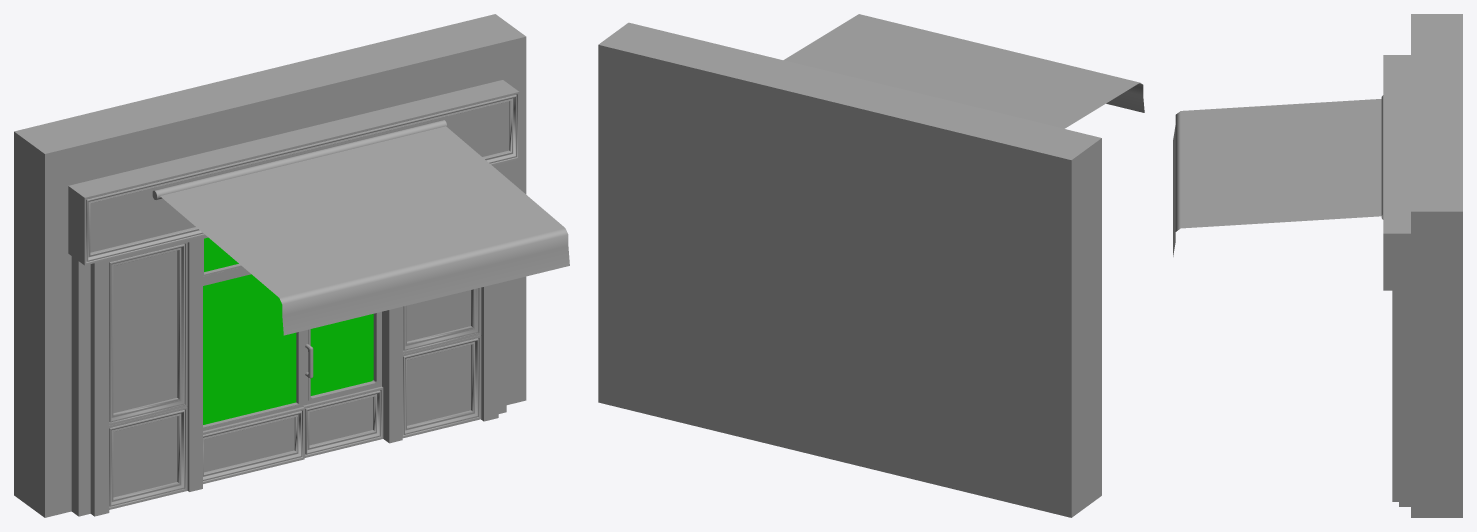
File: SM_Devanture_3.fbx
The picture shows the model from 3 angles, left to right: view 1: azimuth 30°, elevation 25°; view 2: azimuth 150°, elevation 25°; view 3: azimuth 270°, elevation 25°; orthographic projection. The views are drawn at different scales.
Parts seen in each view (by area): view 1: pCube45, pPlane2, pCube56, pCube53, polySurface15, polySurface19, pCube51, pCube54, pCube52, polySurface20, polySurface13, polySurface17 (+6 smaller); view 2: pCube45, pPlane2; view 3: pCube45, pPlane2, pCube56, polySurface20, polySurface19, pCylinder2.
Boxes of the visible parts, x1,y1,x2,y2 form: pCube45: (14,14,526,517); pPlane2: (160,126,569,335); pCube56: (68,80,519,265); pCube53: (109,242,187,425); polySurface15: (203,271,303,430); polySurface19: (90,164,498,516); pCube51: (402,335,481,438); pCube54: (187,239,402,491); pCube52: (109,407,187,509); polySurface20: (71,162,506,516); polySurface13: (203,407,304,483); polySurface17: (303,311,381,405); pCube45: (598,22,1101,517); pPlane2: (783,14,1144,128); pCube45: (1411,14,1462,517); pPlane2: (1173,99,1381,256); pCube56: (1383,55,1410,290); polySurface20: (1399,290,1410,506); polySurface19: (1392,290,1398,501); pCylinder2: (1381,95,1383,219).
Bounding box in the file's own units: 900 × 650 × 557.
